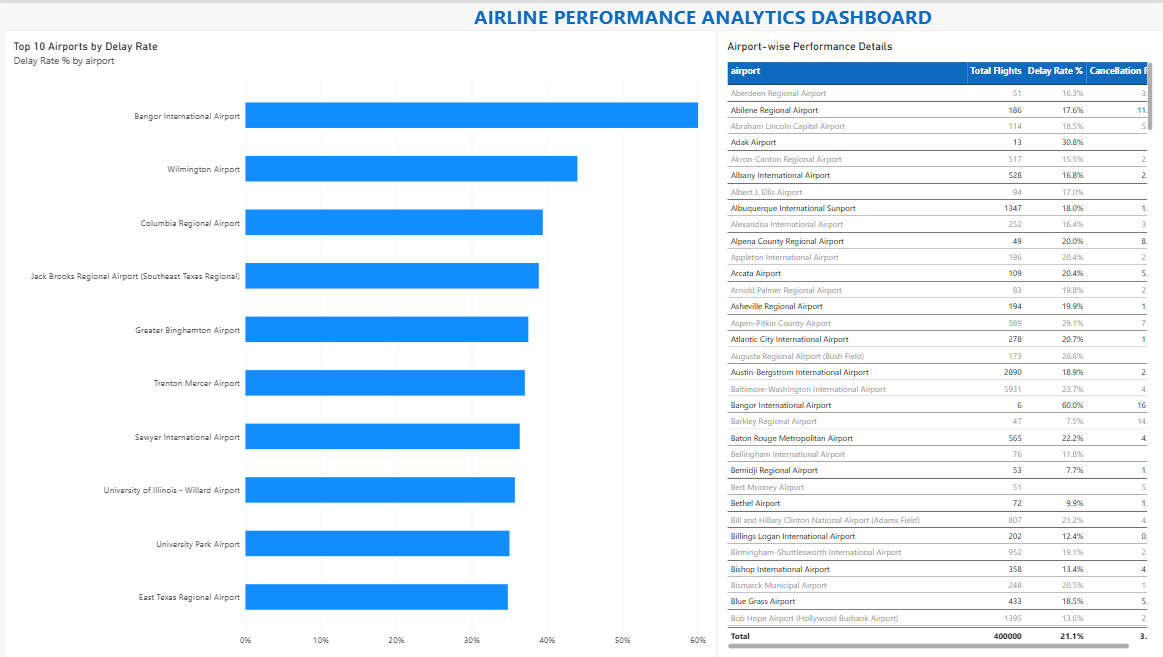

What the dashboard file says about the page in this screenshot:
{"tool":"powerbi","page":{"name":"Page 2","canvas":[1920,1080],"ordinal":1},"visuals":[{"type":"clusteredBarChart","title":"Top 10 Airports by Delay Rate","fields":{"Category":["airports.airport"],"Y":["flights.Delay Rate %"]},"box":[10.3,45.3,1175.3,1035.3],"z":0},{"type":"tableEx","title":"Airport-wise Performance Details","fields":{"Values":["airports.airport","flights.Total Flights","flights.Delay Rate %","flights.Cancellation Rate"]},"box":[1185.6,45.3,734.8,1035.3],"z":1000},{"type":"textbox","box":[10.3,0,1910.1,90.6],"z":2000}]}

Visuals, with their boxes in screenshot pixels (x1, y1, x2, y2), scaled from the page's 1920x1080 canvas onto the 1163x657 screenshot:
"Top 10 Airports by Delay Rate" clusteredBarChart: BBox(6, 28, 718, 656)
"Airport-wise Performance Details" tableEx: BBox(718, 28, 1162, 656)
textbox: BBox(6, 0, 1162, 55)
